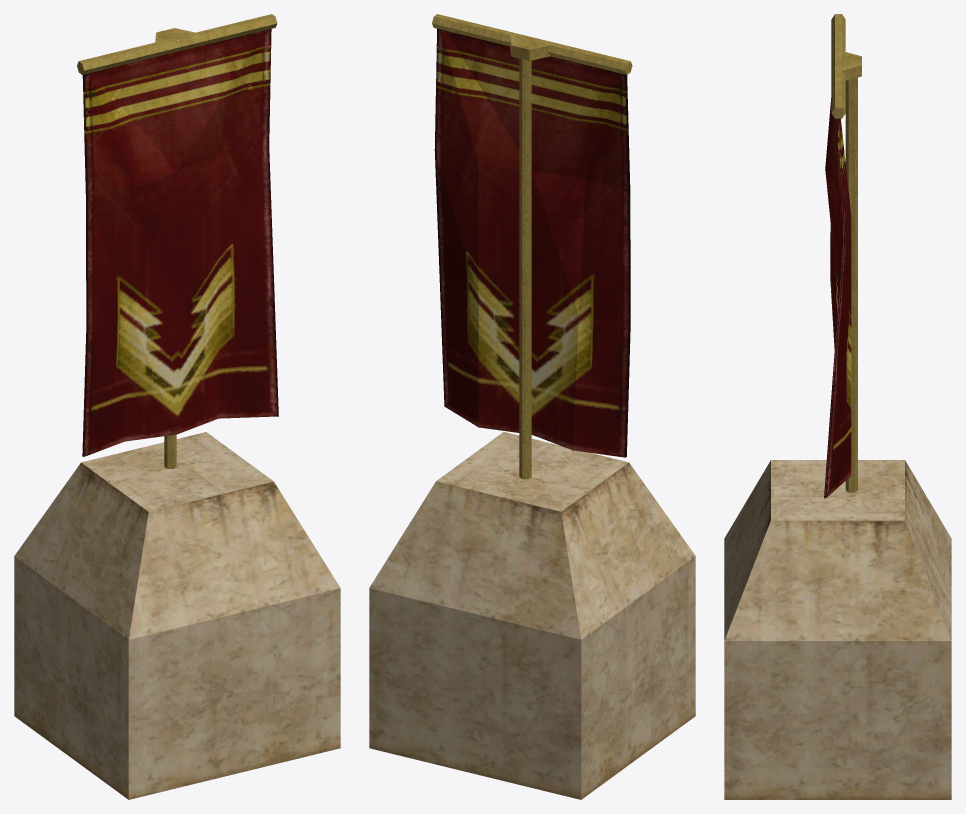
Rendered from thm_tato_guild_banner_freestand_s01_l0.fbx.
3 renders of one model, left to right at view 1: azimuth 30°, elevation 25°; view 2: azimuth 150°, elevation 25°; view 3: azimuth 270°, elevation 25°, orthographic.
Parts seen in each view (by area): view 1: mesh_node; view 2: mesh_node; view 3: mesh_node.
Part boxes in pixels (left/top/right/bottom): mesh_node: left=14, top=14, right=340, bottom=799; mesh_node: left=369, top=14, right=695, bottom=799; mesh_node: left=724, top=14, right=951, bottom=799.
Size of the model in its own units: 3.21 by 10.02 by 3.
